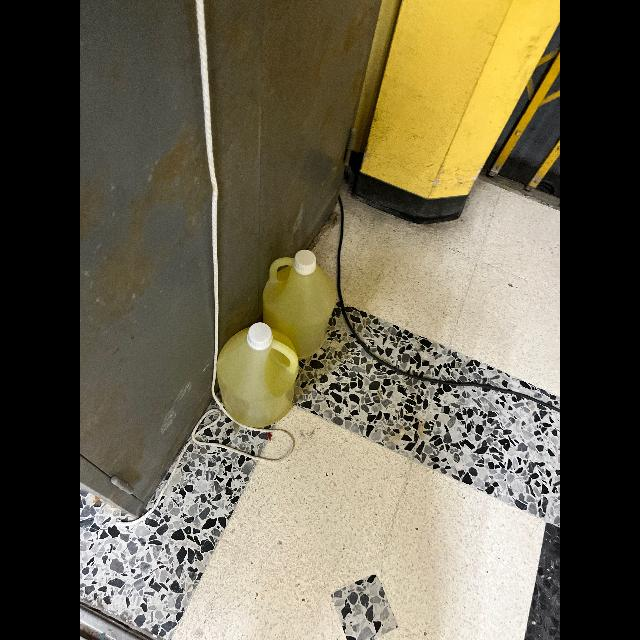chemical_plastic_gallon: (258, 240, 344, 358), (214, 320, 306, 428)
